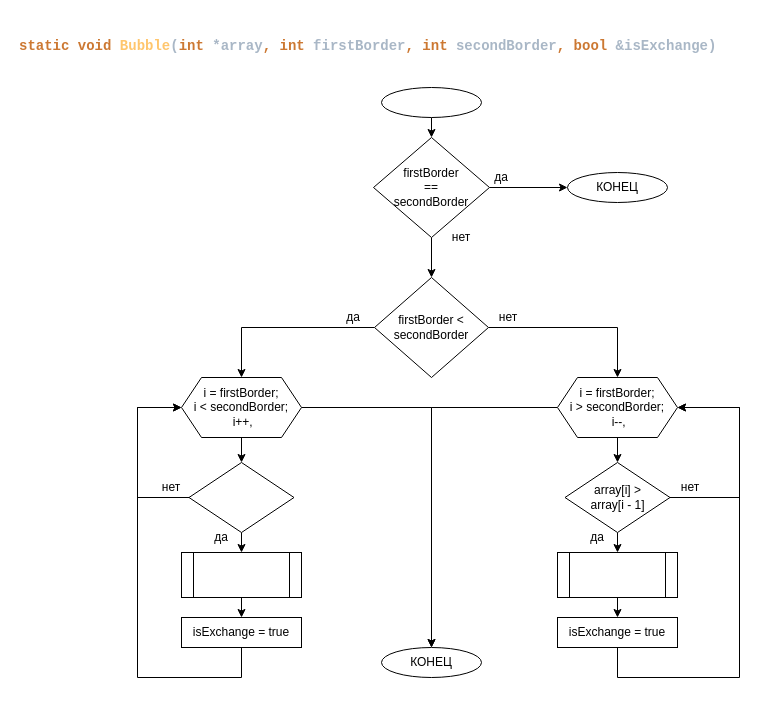
Some shapes in this 765 by 703 pixel diagram are drawn without their labels. The centre of each missing label's shape, as x and y in pixels:
"array[i] < array[i + 1]" goes at [241,497].
"swap(array[i], array[i + 1])" goes at [241,575].
"swap(array[i], array[i - 1])" goes at [617,575].
"НАЧАЛО" goes at [431,102].
